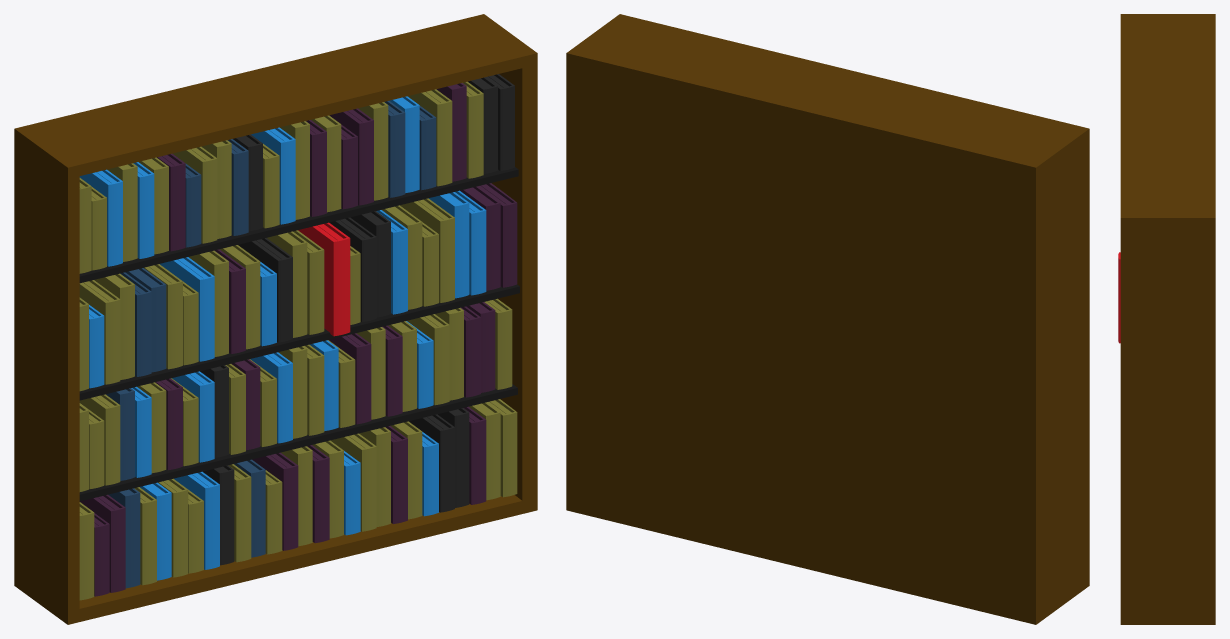
File: Bookshelf.fbx
3 views of the same model, side by side, from view 1: azimuth 30°, elevation 25°; view 2: azimuth 150°, elevation 25°; view 3: azimuth 270°, elevation 25° (orthographic). The views are drawn at different scales.
Visible parts, largest first — view 1: Cube.001, Plane; view 2: Cube.001; view 3: Cube.001, Plane.
Boxes of the visible parts, x1,y1,x2,y2 form: Cube.001: (14, 14, 537, 624); Plane: (298, 222, 350, 336); Cube.001: (566, 14, 1089, 624); Cube.001: (1120, 14, 1215, 624); Plane: (1118, 252, 1120, 343).
Size of the model in its own units: 300 by 279 by 60.62.
